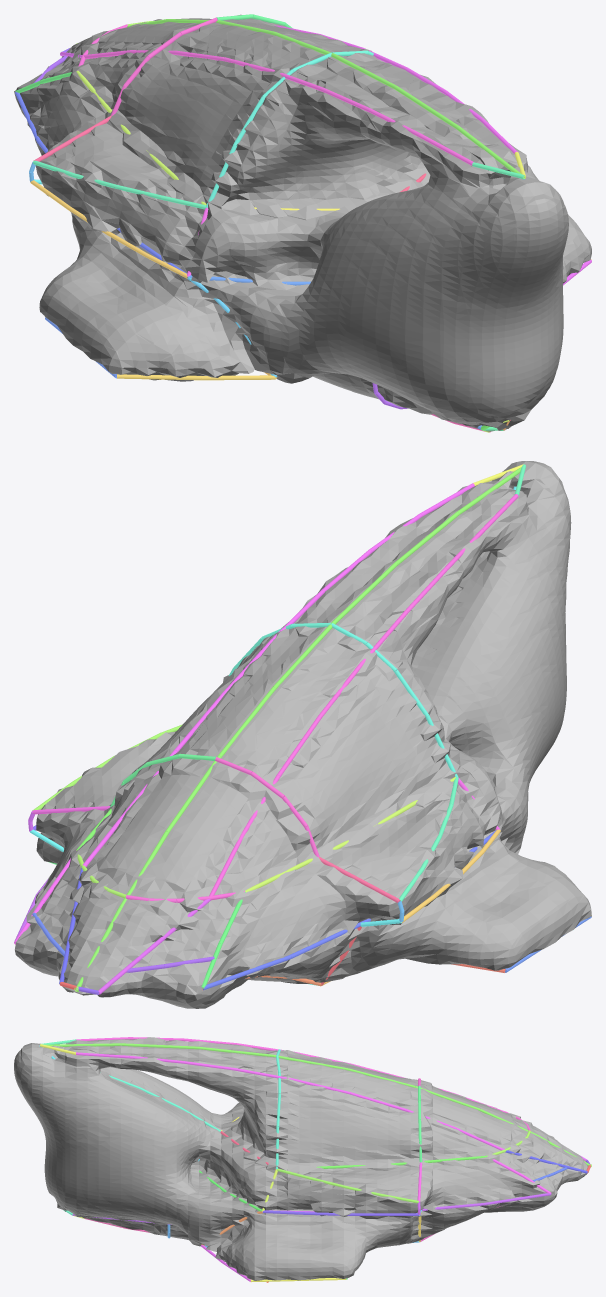
Rendered from ils_spacecraft_78.gltf.
3 views of the same model, one above another, from view 1: azimuth 30°, elevation 25°; view 2: azimuth 150°, elevation 25°; view 3: azimuth 270°, elevation 25° (orthographic). The views are drawn at different scales.
Size of the model in its own units: 0.5062 by 0.3206 by 0.8485.
